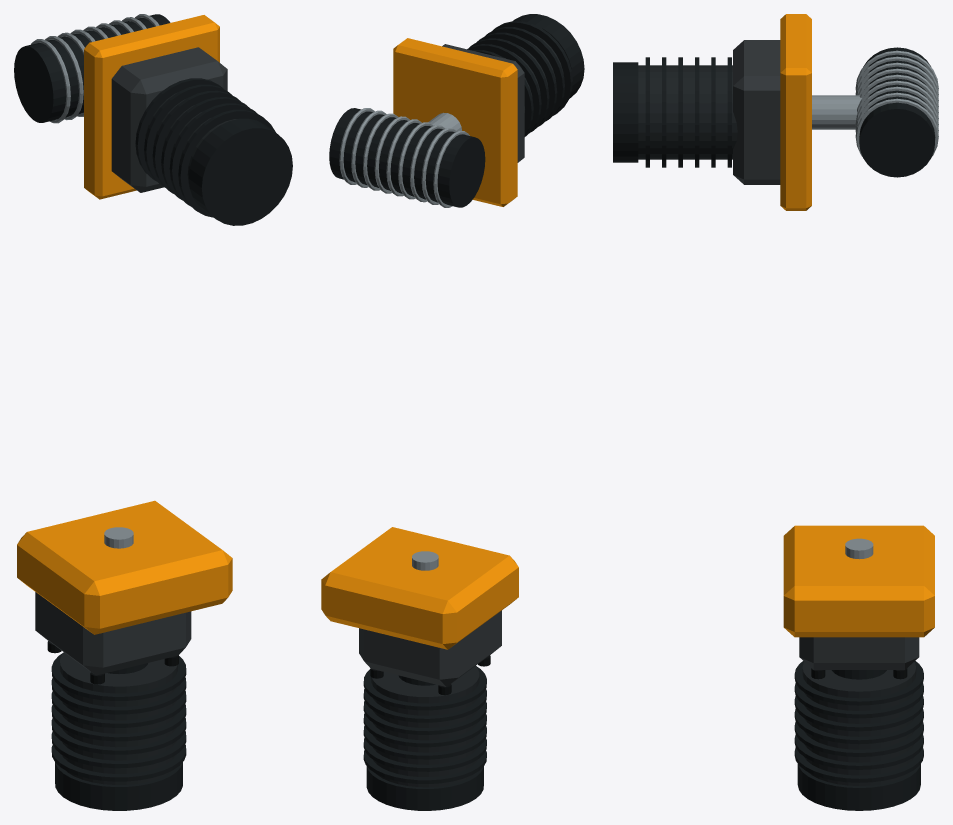
Rendered from motor_gearbox.obj.
The picture shows the model from 3 angles, left to right: view 1: azimuth 30°, elevation 25°; view 2: azimuth 150°, elevation 25°; view 3: azimuth 270°, elevation 25°; orthographic projection. The views are drawn at different scales.
Size of the model in its own units: 0.52 by 2.6 by 1.03.
